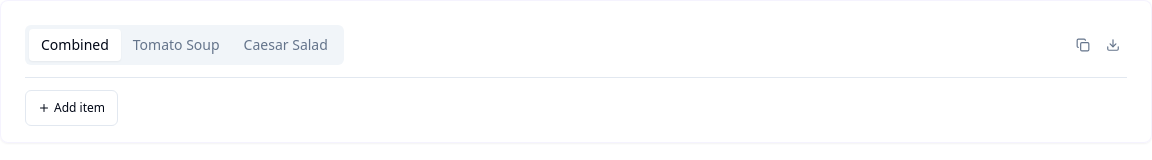
GroceryListSection › shows add item form when Add item button is clicked
The width and height of the screenshot is (1152, 160).
Step 1. Click the button "Add item" → coordinates (72, 108), box [25,90,118,126]
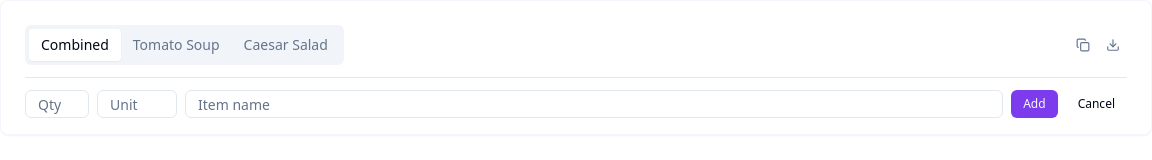
Check: the field named "New item name" is shown, box [185,90,1003,118]
Check: the field named "New item quantity" is shown, box [25,90,89,118]
Check: the field named "New item unit" is shown, box [97,90,177,118]
